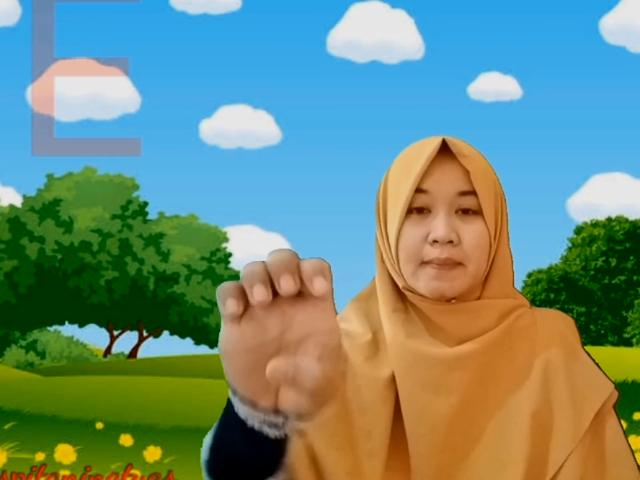E: (216, 247, 350, 417)
